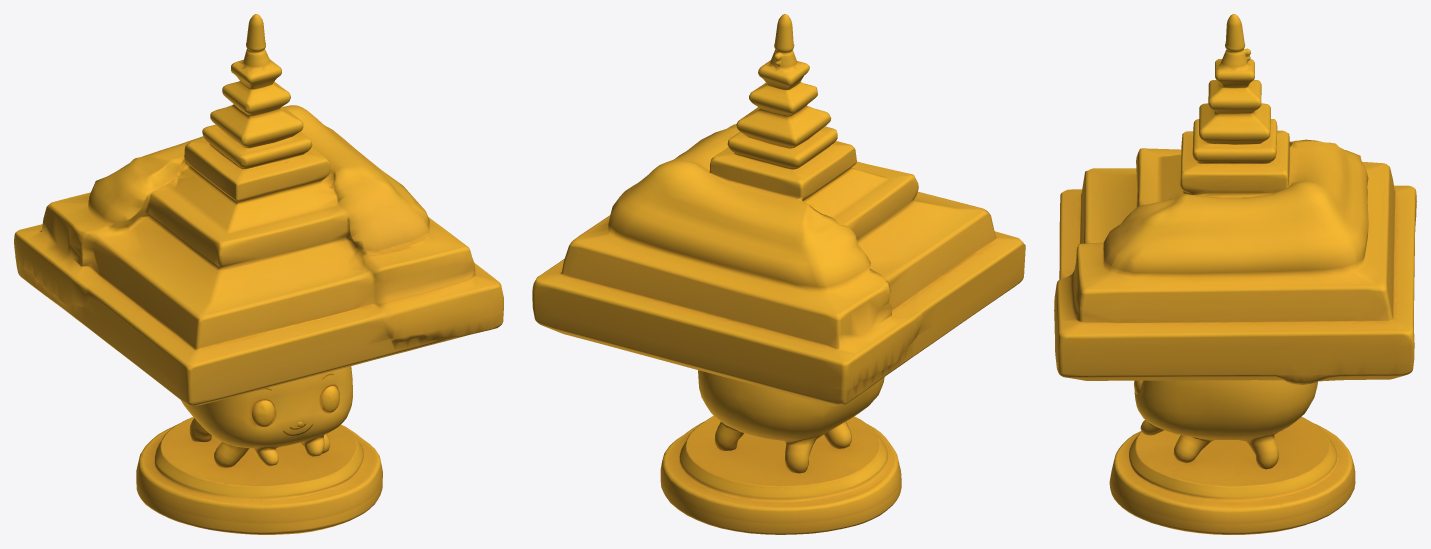
The model's file is laos-envi-4.glb.
3 views of the same model, side by side, from view 1: azimuth 30°, elevation 25°; view 2: azimuth 150°, elevation 25°; view 3: azimuth 270°, elevation 25° (orthographic).
Visible parts, largest first — view 1: tripo_92454461_4e00_4cfa_8fc7_fb15c3b41f6c; view 2: tripo_92454461_4e00_4cfa_8fc7_fb15c3b41f6c; view 3: tripo_92454461_4e00_4cfa_8fc7_fb15c3b41f6c.
Part boxes in pixels (x1=…): tripo_92454461_4e00_4cfa_8fc7_fb15c3b41f6c: x1=14, y1=14, x2=503, y2=534; tripo_92454461_4e00_4cfa_8fc7_fb15c3b41f6c: x1=532, y1=14, x2=1025, y2=534; tripo_92454461_4e00_4cfa_8fc7_fb15c3b41f6c: x1=1054, y1=14, x2=1416, y2=534.
Size of the model in its own units: 0.7075 by 0.9995 by 0.6987.
1 material, 1 textured.
